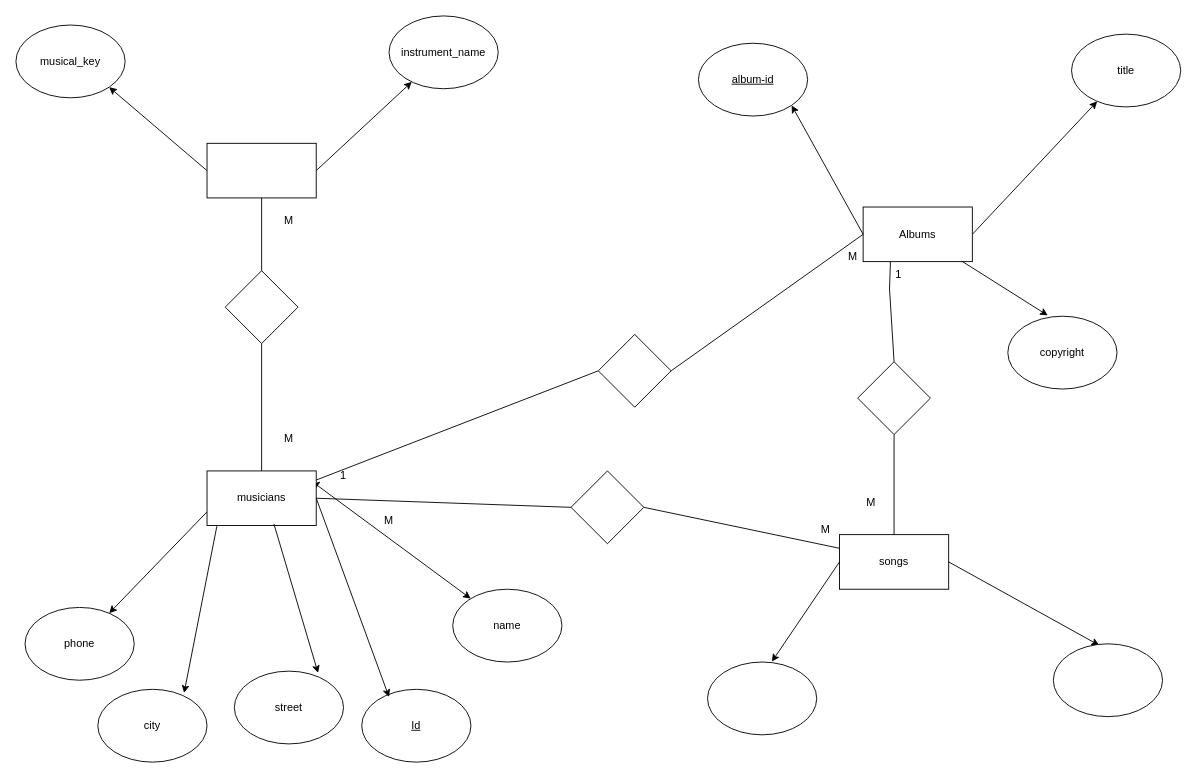
This 1197x778 diagram has some shape labels left out. The centre of each missing label's shape, as x and y in pixels:
"author" goes at point (1107, 680).
"contains" goes at point (893, 398).
"Instrument" goes at point (261, 170).
"performs" goes at point (607, 507).
"plays" goes at point (261, 307).
"produces" goes at point (634, 370).
"song-title" goes at point (762, 698).
